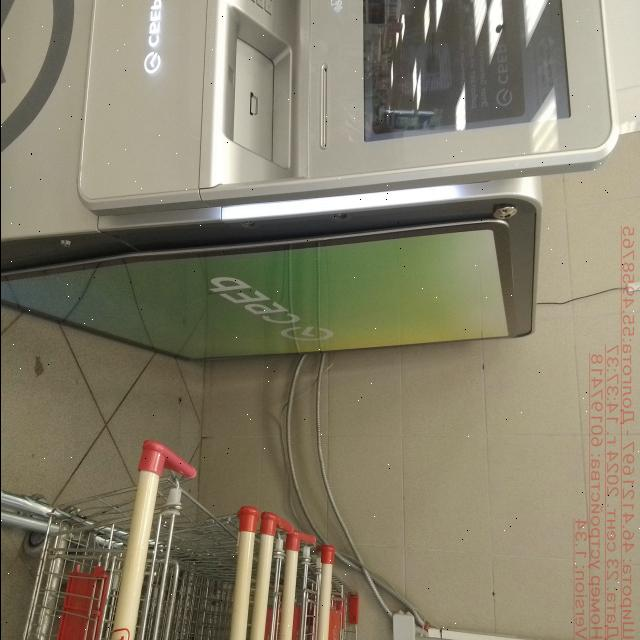bank: (0, 0, 617, 359)
